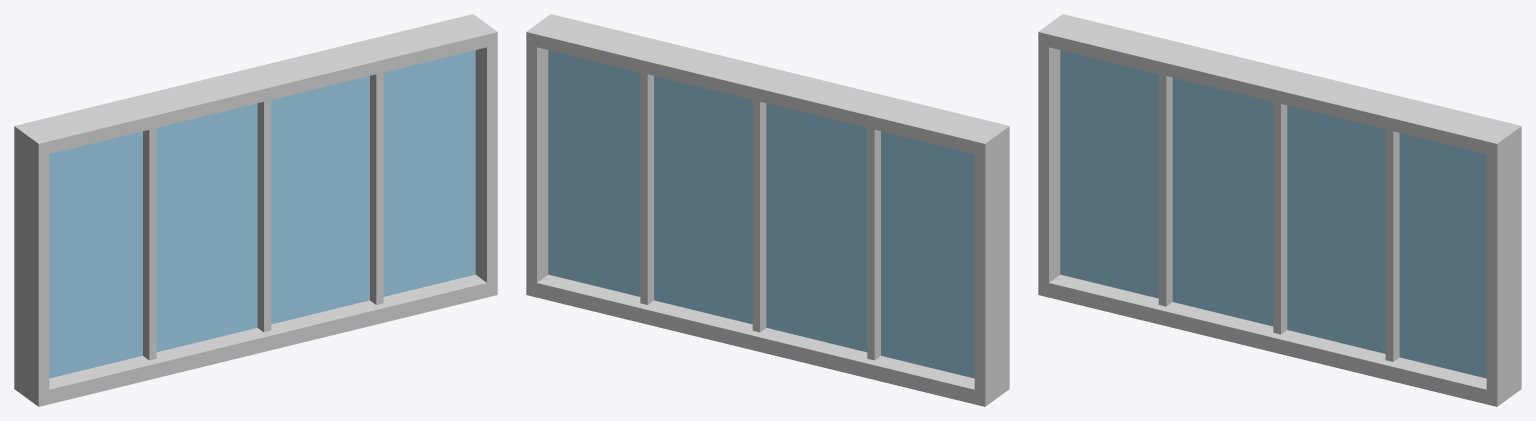
The model's file is window_017.glb.
The picture shows the model from 3 angles, left to right: view 1: azimuth 30°, elevation 25°; view 2: azimuth 150°, elevation 25°; view 3: azimuth 330°, elevation 25°; orthographic projection.
Visible parts, largest first — view 1: window_017; view 2: window_017; view 3: window_017.
Part boxes in pixels (x1,y1,x2,y2): window_017: (14, 14, 497, 406); window_017: (526, 14, 1009, 406); window_017: (1038, 14, 1521, 406).
Bounding box in the file's own units: 3.05 × 1.67 × 0.2828.
Materials: 1 (1 with a texture image).
